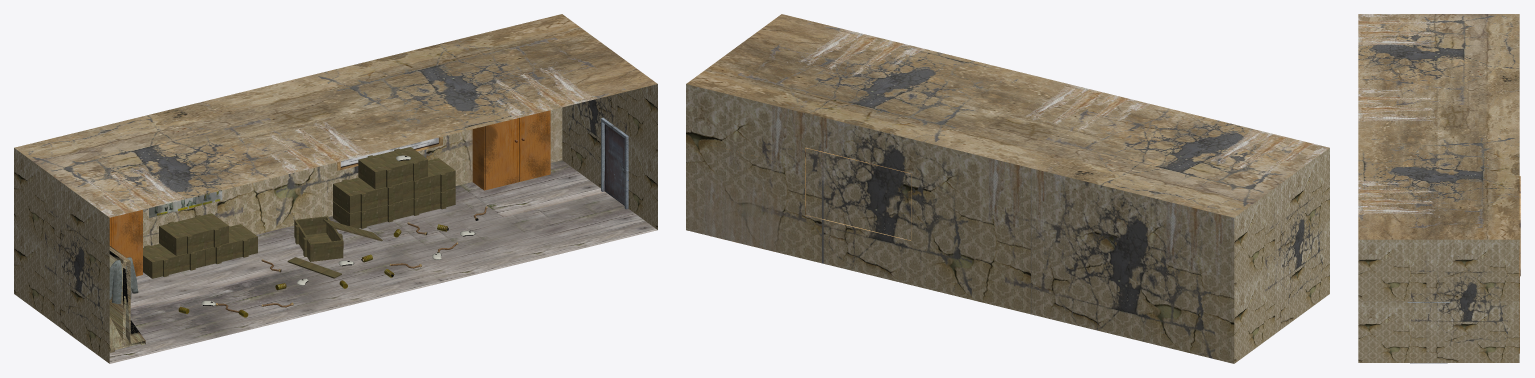
File: Room3.FBX
3 views of the same model, side by side, from view 1: azimuth 30°, elevation 25°; view 2: azimuth 150°, elevation 25°; view 3: azimuth 270°, elevation 25° (orthographic). The views are drawn at different scales.
Parts seen in each view (by area): view 1: Box01, Box09, Box03, Cylinder26, Cylinder18, Cylinder27, Cylinder28; view 2: Box01; view 3: Box01, Box03.
Part boxes in pixels (x1,y1,x2,y2): Box01: [14, 14, 657, 363]; Box09: [143, 147, 455, 278]; Box03: [109, 110, 628, 276]; Cylinder26: [109, 246, 145, 352]; Cylinder18: [338, 155, 487, 277]; Cylinder27: [109, 257, 138, 303]; Cylinder28: [178, 259, 347, 317]; Box01: [686, 14, 1329, 363]; Box01: [1358, 14, 1519, 362]; Box03: [1407, 176, 1520, 363].
Size of the model in its own units: 76.32 by 19.54 by 23.12.
Materials: 6 (6 with a texture image).
